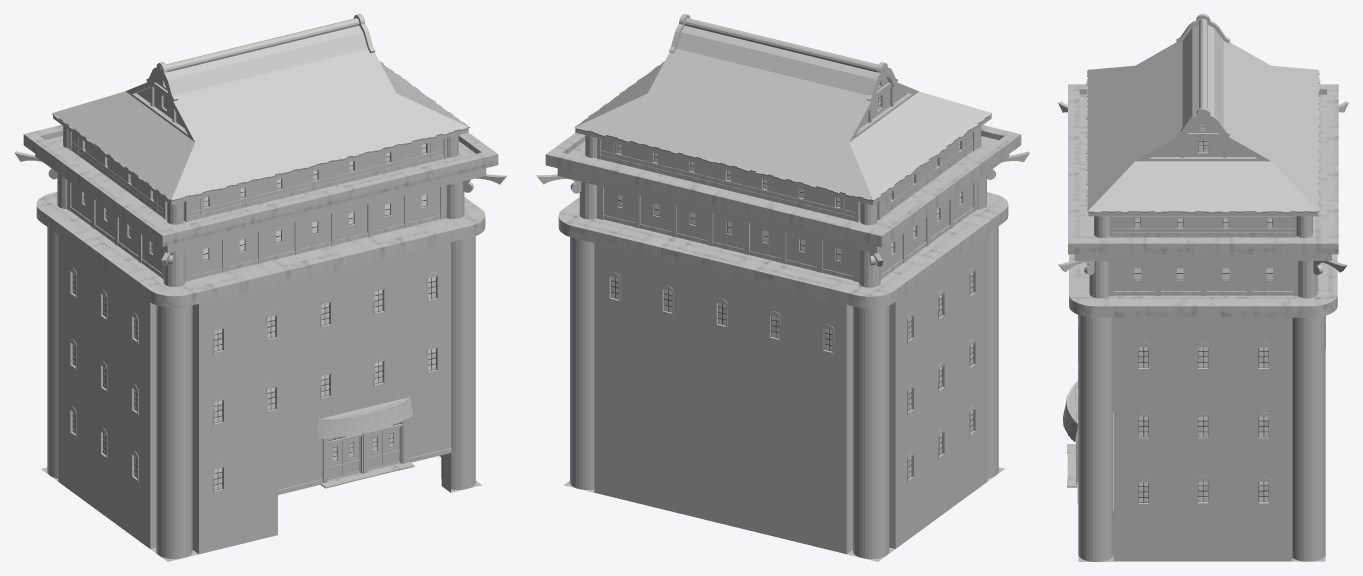
Rendered from SM_ENV_KNVLLG_AreaJ_Building_A_Part01.mo.fbx.
The picture shows the model from 3 angles, left to right: view 1: azimuth 30°, elevation 25°; view 2: azimuth 150°, elevation 25°; view 3: azimuth 270°, elevation 25°; orthographic projection. The views are drawn at different scales.
Visible parts, largest first — view 1: SM_ENV_KNVLLG_AreaJ_Building_A_Part01.mo; view 2: SM_ENV_KNVLLG_AreaJ_Building_A_Part01.mo; view 3: SM_ENV_KNVLLG_AreaJ_Building_A_Part01.mo.
Boxes of the visible parts, x1,y1,x2,y2 form: SM_ENV_KNVLLG_AreaJ_Building_A_Part01.mo: [14, 14, 506, 561]; SM_ENV_KNVLLG_AreaJ_Building_A_Part01.mo: [536, 14, 1029, 561]; SM_ENV_KNVLLG_AreaJ_Building_A_Part01.mo: [1058, 14, 1348, 561].
Bounding box in the file's own units: 33.16 × 39.88 × 24.71.
